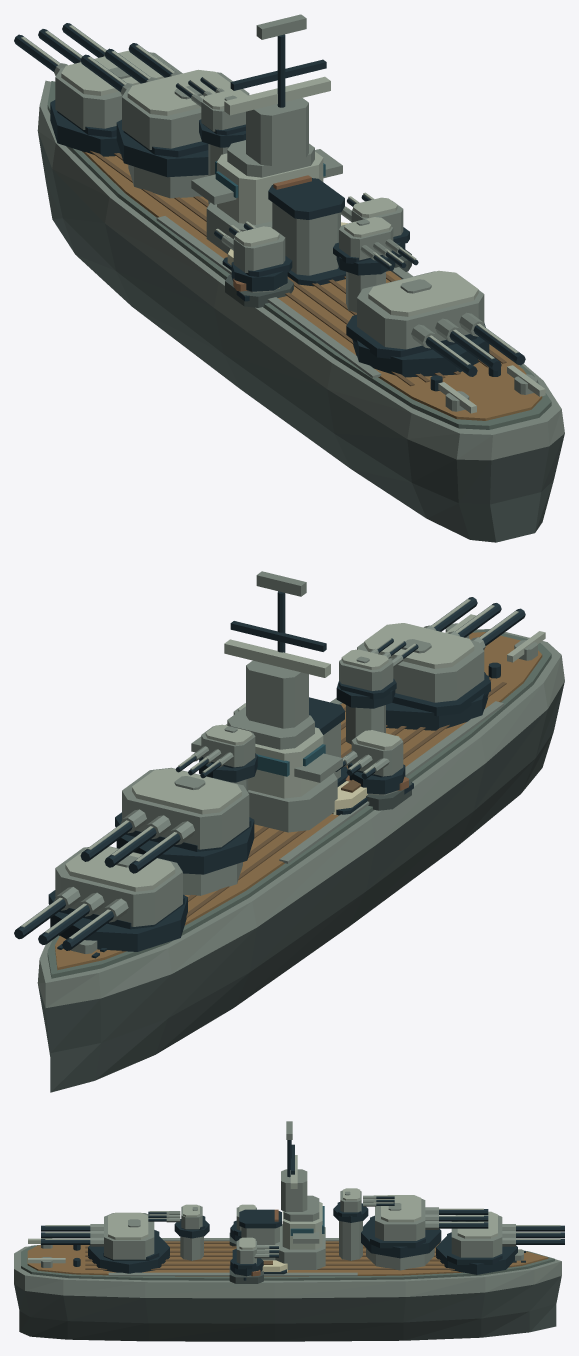
The model's file is battleship.glb.
3 views of the same model, one above another, from view 1: azimuth 30°, elevation 25°; view 2: azimuth 150°, elevation 25°; view 3: azimuth 270°, elevation 25° (orthographic). The views are drawn at different scales.
Visible parts, largest first — view 1: battleship-battleship-geometry, battleship-part_bridge.003-geometry, battleship-turret_main_2.002-geometry, battleship-turret_main_1.002-geometry, battleship-turret_main_0.002-geometry, battleship-historic_funnel_0.003-geometry, battleship-turret_aa_aa-port.004-geometry, battleship-turret_secondary_1-geometry, battleship-turret_secondary_0-geometry, battleship-turret_aa_aa-starboard.003-geometry, battleship-part_aa-port.004-geometry; view 2: battleship-battleship-geometry, battleship-part_bridge.003-geometry, battleship-turret_main_1.002-geometry, battleship-turret_main_0.002-geometry, battleship-turret_main_2.002-geometry, battleship-turret_secondary_1-geometry, battleship-turret_secondary_0-geometry, battleship-turret_aa_aa-port.004-geometry, battleship-historic_funnel_0.003-geometry, battleship-part_aa-port.004-geometry; view 3: battleship-battleship-geometry, battleship-turret_main_2.002-geometry, battleship-turret_main_1.002-geometry, battleship-turret_main_0.002-geometry, battleship-part_bridge.003-geometry, battleship-historic_funnel_0.003-geometry, battleship-turret_secondary_1-geometry, battleship-turret_secondary_0-geometry, battleship-turret_aa_aa-starboard.003-geometry, battleship-turret_aa_aa-port.004-geometry, battleship-part_aa-starboard.003-geometry.
Boxes of the visible parts, left/top/right/bottom form: battleship-battleship-geometry: left=37, top=80, right=564, bottom=542; battleship-part_bridge.003-geometry: left=191, top=14, right=342, bottom=253; battleship-turret_main_2.002-geometry: left=346, top=270, right=525, bottom=377; battleship-turret_main_1.002-geometry: left=80, top=43, right=249, bottom=177; battleship-turret_main_0.002-geometry: left=14, top=23, right=181, bottom=156; battleship-historic_funnel_0.003-geometry: left=268, top=175, right=345, bottom=286; battleship-turret_aa_aa-port.004-geometry: left=214, top=221, right=292, bottom=291; battleship-turret_secondary_1-geometry: left=333, top=217, right=418, bottom=275; battleship-turret_secondary_0-geometry: left=176, top=76, right=248, bottom=147; battleship-turret_aa_aa-starboard.003-geometry: left=341, top=192, right=409, bottom=257; battleship-part_aa-port.004-geometry: left=225, top=274, right=293, bottom=307; battleship-battleship-geometry: left=37, top=614, right=564, bottom=1092; battleship-part_bridge.003-geometry: left=191, top=571, right=342, bottom=832; battleship-turret_main_1.002-geometry: left=80, top=767, right=254, bottom=874; battleship-turret_main_0.002-geometry: left=14, top=846, right=187, bottom=951; battleship-turret_main_2.002-geometry: left=357, top=597, right=525, bottom=730; battleship-turret_secondary_1-geometry: left=336, top=637, right=418, bottom=708; battleship-turret_secondary_0-geometry: left=175, top=724, right=257, bottom=782; battleship-turret_aa_aa-port.004-geometry: left=335, top=730, right=405, bottom=794; battleship-historic_funnel_0.003-geometry: left=309, top=697, right=348, bottom=786; battleship-part_aa-port.004-geometry: left=366, top=777, right=411, bottom=810; battleship-battleship-geometry: left=14, top=1221, right=561, bottom=1341; battleship-turret_main_2.002-geometry: left=41, top=1212, right=169, bottom=1273; battleship-turret_main_1.002-geometry: left=361, top=1195, right=488, bottom=1258; battleship-turret_main_0.002-geometry: left=436, top=1211, right=564, bottom=1274; battleship-part_bridge.003-geometry: left=275, top=1121, right=325, bottom=1269; battleship-historic_funnel_0.003-geometry: left=232, top=1209, right=281, bottom=1260; battleship-turret_secondary_1-geometry: left=148, top=1204, right=209, bottom=1238; battleship-turret_secondary_0-geometry: left=333, top=1188, right=394, bottom=1222; battleship-turret_aa_aa-starboard.003-geometry: left=230, top=1237, right=278, bottom=1276; battleship-turret_aa_aa-port.004-geometry: left=230, top=1204, right=256, bottom=1241; battleship-part_aa-starboard.003-geometry: left=229, top=1266, right=263, bottom=1283.
Bounding box in the file's own units: 0.9948 × 1.92 × 4.82.
